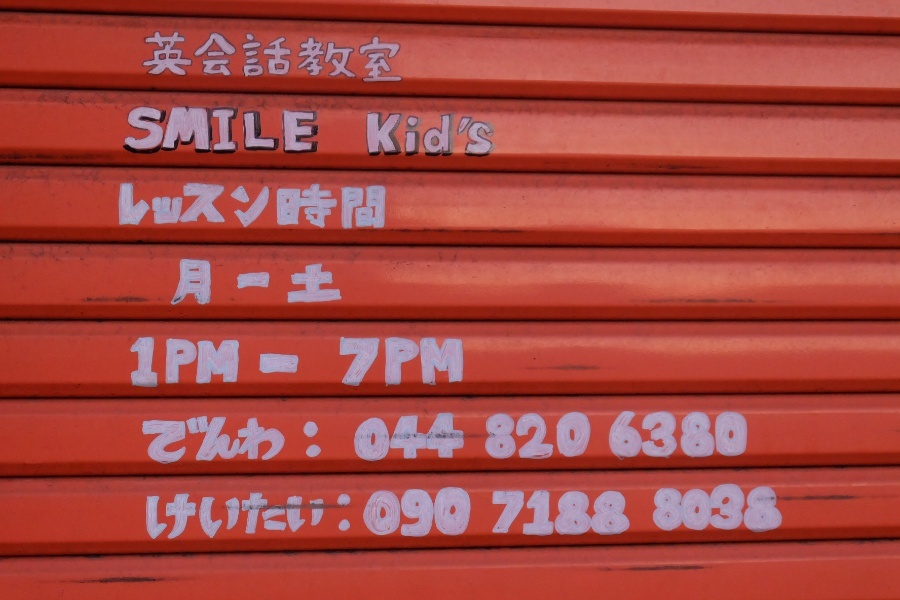text: (369, 488, 384, 541), (385, 488, 400, 541), (401, 488, 416, 541), (417, 488, 432, 541), (433, 488, 448, 541), (449, 488, 464, 541), (145, 32, 160, 84), (161, 32, 176, 84), (177, 32, 192, 84), (193, 32, 208, 84), (209, 32, 224, 84), (225, 32, 240, 84), (241, 32, 256, 84), (257, 32, 272, 84), (273, 32, 288, 84), (289, 32, 304, 84), (305, 32, 320, 84), (321, 32, 336, 84), (337, 32, 352, 84), (353, 32, 368, 84), (369, 32, 384, 84), (385, 32, 400, 84), (145, 337, 160, 389), (161, 337, 176, 389), (177, 337, 192, 389), (193, 337, 208, 389), (209, 337, 224, 389), (225, 337, 240, 389), (353, 337, 368, 389), (369, 337, 384, 389), (385, 337, 400, 389), (401, 337, 416, 389), (417, 337, 432, 389), (433, 337, 448, 389), (449, 337, 464, 389), (145, 415, 160, 466), (161, 415, 176, 466), (177, 415, 192, 466), (193, 415, 208, 466), (209, 415, 224, 466), (225, 415, 240, 466), (241, 415, 256, 466), (257, 415, 272, 466), (369, 414, 384, 464), (385, 414, 400, 464), (401, 414, 416, 464), (417, 414, 432, 464), (433, 414, 448, 464), (449, 414, 464, 464), (577, 414, 593, 460), (145, 106, 160, 155), (161, 106, 176, 155), (177, 106, 192, 155), (193, 106, 208, 155), (209, 106, 224, 155), (225, 106, 240, 155), (241, 106, 256, 155), (257, 106, 272, 155), (273, 106, 288, 155), (289, 106, 304, 155), (130, 337, 144, 389), (625, 411, 640, 459), (641, 411, 656, 459), (657, 411, 672, 459), (673, 411, 688, 459), (689, 411, 704, 459), (705, 411, 720, 459), (721, 411, 736, 459), (657, 486, 672, 534), (673, 486, 688, 534), (689, 486, 704, 534), (705, 486, 720, 534), (721, 486, 736, 534), (737, 486, 752, 534), (753, 486, 768, 534), (273, 415, 287, 466), (129, 183, 144, 230), (145, 183, 160, 230), (161, 183, 176, 230), (177, 183, 192, 230), (193, 183, 208, 230), (209, 183, 224, 230), (225, 183, 240, 230), (241, 183, 256, 230), (257, 183, 272, 230), (273, 183, 288, 230), (289, 183, 304, 230), (305, 183, 320, 230), (321, 183, 336, 230), (337, 183, 352, 230), (353, 183, 368, 230), (369, 183, 384, 230), (369, 111, 384, 157), (385, 111, 400, 157), (401, 111, 416, 157), (417, 111, 432, 157), (433, 111, 448, 157), (449, 111, 464, 157), (465, 111, 480, 157), (481, 111, 496, 157), (193, 259, 208, 305), (497, 414, 512, 460), (513, 414, 528, 460), (529, 414, 544, 460), (545, 414, 560, 460), (561, 414, 576, 460), (130, 106, 144, 155), (145, 495, 160, 540), (161, 495, 176, 540), (177, 495, 192, 540), (193, 495, 208, 540), (209, 495, 224, 540), (225, 495, 240, 540), (241, 495, 256, 540), (257, 495, 272, 540), (273, 495, 288, 540), (289, 495, 304, 540), (305, 495, 320, 540), (497, 491, 512, 536), (513, 491, 528, 536), (529, 491, 544, 536), (545, 491, 560, 536), (561, 491, 576, 536), (577, 491, 592, 536), (593, 491, 608, 536), (609, 491, 624, 536), (769, 486, 783, 534), (305, 106, 318, 155), (305, 262, 320, 304), (321, 262, 336, 304), (737, 411, 750, 459), (356, 414, 368, 464), (612, 411, 624, 459), (341, 337, 352, 389), (337, 495, 352, 533), (305, 422, 320, 459), (180, 259, 192, 305), (465, 488, 474, 541), (486, 414, 496, 460), (119, 183, 128, 230), (294, 262, 304, 304), (273, 355, 288, 375), (337, 262, 344, 304), (625, 491, 631, 536), (241, 273, 256, 290), (260, 355, 272, 375), (257, 273, 271, 290), (491, 491, 496, 536), (364, 488, 368, 541), (140, 415, 144, 466), (289, 355, 299, 375), (652, 486, 656, 534), (321, 495, 325, 540), (209, 259, 212, 305), (465, 414, 467, 464), (385, 183, 387, 230), (366, 111, 368, 157), (401, 32, 402, 84), (237, 273, 240, 290), (321, 422, 322, 459)
